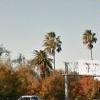Palm tree: (38, 12, 100, 64)
